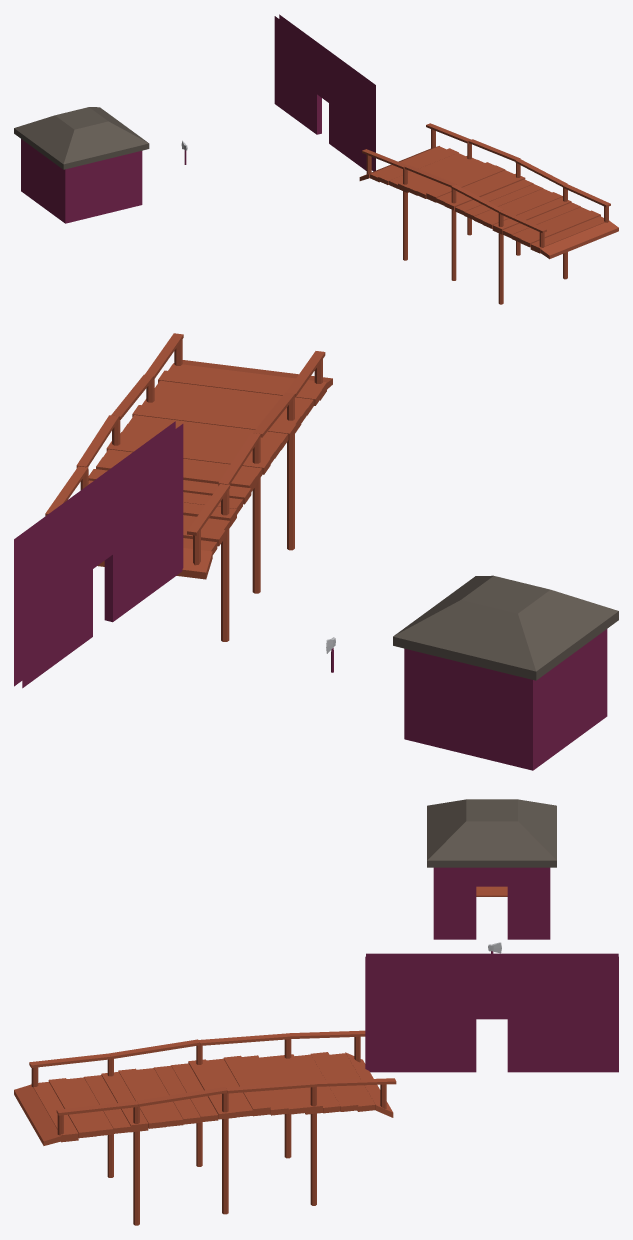
The model's file is extras.glb.
The picture shows the model from 3 angles, top to bottom: view 1: azimuth 30°, elevation 25°; view 2: azimuth 150°, elevation 25°; view 3: azimuth 270°, elevation 25°; orthographic projection. The views are drawn at different scales.
Parts seen in each view (by area): view 1: Bridge, SmallCabin, YourOwnDoorWall; view 2: SmallCabin, Bridge, YourOwnDoorWall; view 3: YourOwnDoorWall, Bridge, SmallCabin.
Boxes of the visible parts, <box> form: Bridge: <box>359,123,618,304</box>; SmallCabin: <box>14,107,149,223</box>; YourOwnDoorWall: <box>274,14,375,171</box>; SmallCabin: <box>393,575,618,770</box>; Bridge: <box>45,333,332,641</box>; YourOwnDoorWall: <box>14,421,183,688</box>; YourOwnDoorWall: <box>365,953,618,1072</box>; Bridge: <box>14,1030,396,1225</box>; SmallCabin: <box>427,799,556,939</box>.
Size of the model in its own units: 27.6 by 9.93 by 26.93.
